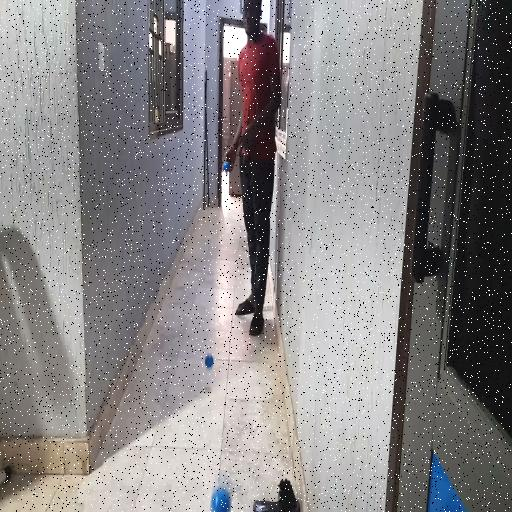plastic-ball: (211, 483, 232, 512)
